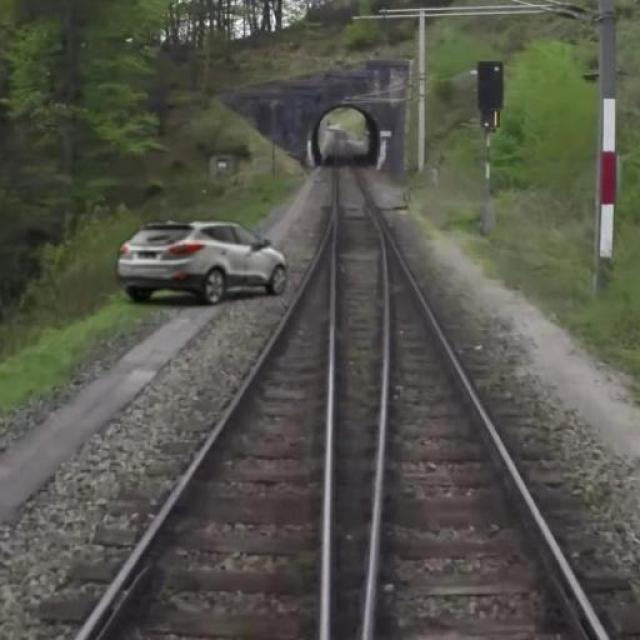vehicle: (115, 216, 307, 316)
